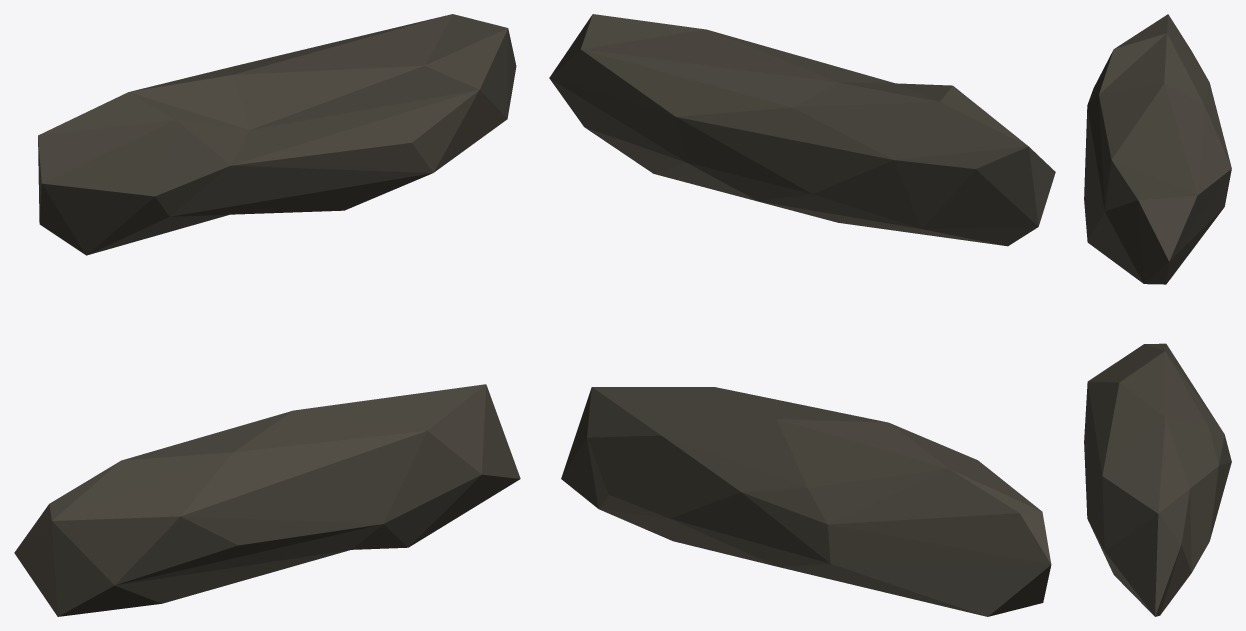
File: Straight.FBX
The picture shows the model from 3 angles, left to right: view 1: azimuth 30°, elevation 25°; view 2: azimuth 150°, elevation 25°; view 3: azimuth 270°, elevation 25°; orthographic projection. The views are drawn at different scales.
Visible parts, largest first — view 1: Straight; view 2: Straight; view 3: Straight.
Boxes of the visible parts, x1,y1,x2,y2 form: Straight: [14, 14, 520, 616]; Straight: [549, 14, 1055, 616]; Straight: [1084, 14, 1231, 616].
Size of the model in its own units: 113 by 108 by 32.75.
